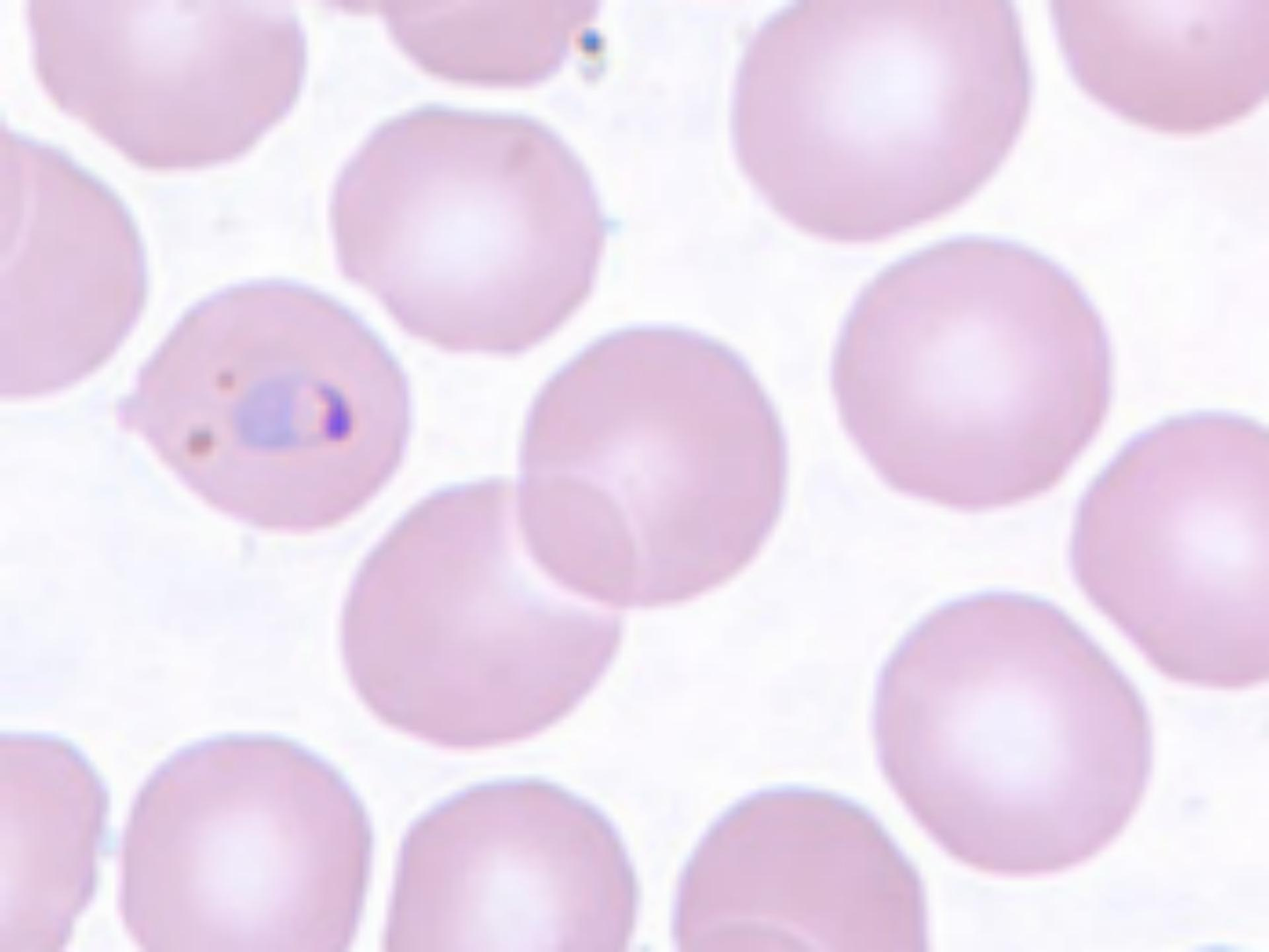Infected: (123, 278, 414, 530)
Uninfected: (872, 592, 1153, 874), (335, 475, 627, 745), (520, 325, 786, 602), (837, 238, 1112, 502), (736, 1, 1024, 239), (335, 108, 601, 352), (119, 734, 369, 951), (1081, 414, 1269, 681), (34, 1, 302, 171), (380, 781, 633, 952), (673, 788, 932, 952), (1056, 3, 1269, 136)
